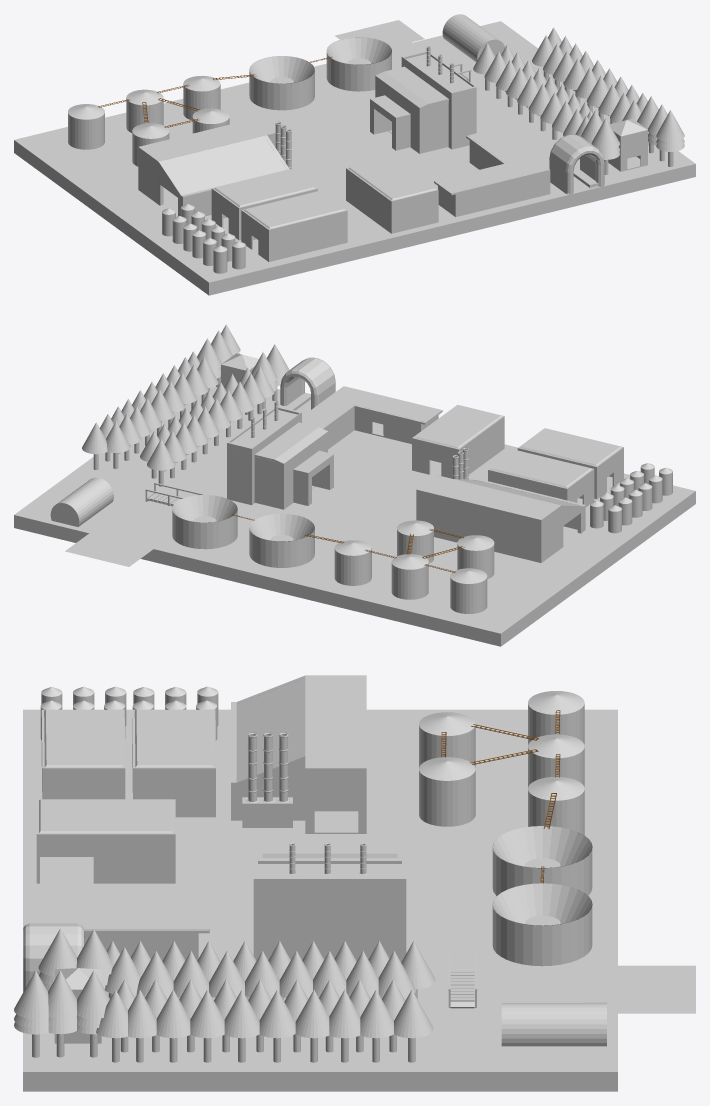
File: Site_Industriel_fini_LE_VRAII.fbx
3 renders of one model, top to bottom at view 1: azimuth 30°, elevation 25°; view 2: azimuth 150°, elevation 25°; view 3: azimuth 270°, elevation 25°, orthographic. The views are drawn at different scales.
Visible parts, largest first — view 1: Plane, Torus.001, Cube.001, Cube.010, Cube.004, Cube.003, Cube.005, Cylinder.001, Plane.001, Torus.026, Cylinder.015, Cylinder.021 (+19 smaller); view 2: Plane, Torus.001, Cube.001, Cube.010, Cube.003, Cube.005, Plane.001, Cylinder.001, Cube.004, Torus.026, Cylinder.021, Cylinder.018 (+15 smaller); view 3: Plane, Torus.001, Cube.001, Cube.003, Cube.010, Cube.005, Cube.004, Plane.001, Cylinder.021, Cylinder.018, Plane.002, Cylinder.003 (+39 smaller).
Boxes of the visible parts, x1,y1,x2,y2 form: Plane: (14, 21, 695, 295); Torus.001: (138, 116, 291, 216); Cube.001: (370, 46, 476, 153); Cube.010: (434, 129, 550, 216); Cube.004: (241, 190, 347, 261); Cube.003: (346, 156, 438, 233); Cube.005: (211, 169, 317, 240); Cylinder.001: (162, 204, 245, 273); Plane.001: (391, 42, 605, 193); Torus.026: (549, 134, 604, 194); Cylinder.015: (249, 56, 314, 110); Cylinder.021: (442, 14, 505, 62); Plane: (14, 386, 695, 646); Torus.001: (416, 447, 585, 562); Cube.001: (227, 400, 333, 509); Cube.010: (302, 386, 442, 449); Cube.003: (412, 404, 504, 478); Cube.005: (488, 450, 594, 506); Plane.001: (104, 399, 310, 544); Cylinder.001: (590, 463, 672, 533); Cube.004: (517, 428, 623, 499); Torus.026: (280, 357, 335, 409); Cylinder.021: (50, 477, 113, 526); Cylinder.018: (172, 505, 237, 549); Plane: (23, 709, 617, 1091); Torus.001: (231, 675, 366, 833); Cube.001: (253, 843, 406, 962); Cube.003: (36, 799, 175, 883); Cube.010: (40, 857, 209, 960); Cube.005: (132, 709, 215, 817); Cube.004: (41, 709, 125, 799); Plane.001: (134, 975, 616, 1003); Cylinder.021: (501, 1002, 606, 1046); Cylinder.018: (492, 890, 592, 966); Plane.002: (616, 965, 695, 1013); Cylinder.003: (419, 757, 475, 826).
Bounding box in the file's own units: 3920 × 664 × 3120.
